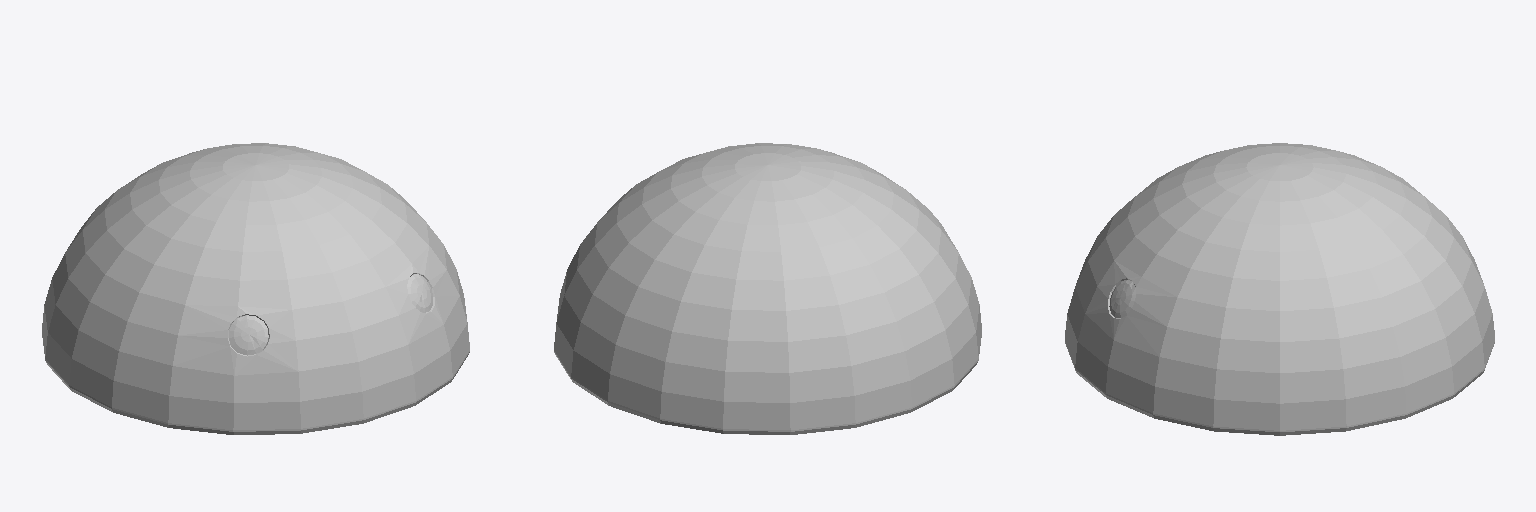
Rendered from head.obj.
The picture shows the model from 3 angles: view 1: azimuth 30°, elevation 25°; view 2: azimuth 150°, elevation 25°; view 3: azimuth 270°, elevation 25°; orthographic projection.
Parts seen in each view (by area): view 1: polySurface4 polySurface2 AndroidRobot:Mesh polySurface10, polySurface15 polySurface4 polySurface2 AndroidRobot:Mesh, polySurface4 polySurface2 AndroidRobot:Mesh polySurface12; view 2: polySurface4 polySurface2 AndroidRobot:Mesh polySurface10, polySurface4 polySurface2 AndroidRobot:Mesh polySurface11; view 3: polySurface4 polySurface2 AndroidRobot:Mesh polySurface10, polySurface4 polySurface2 AndroidRobot:Mesh polySurface11, polySurface4 polySurface2 AndroidRobot:Mesh polySurface12.
Part boxes in pixels (x1,y1,x2,y2): polySurface4 polySurface2 AndroidRobot:Mesh polySurface10: (42, 143, 469, 434); polySurface15 polySurface4 polySurface2 AndroidRobot:Mesh: (229, 315, 268, 355); polySurface4 polySurface2 AndroidRobot:Mesh polySurface12: (407, 274, 432, 312); polySurface4 polySurface2 AndroidRobot:Mesh polySurface10: (554, 143, 981, 429); polySurface4 polySurface2 AndroidRobot:Mesh polySurface11: (554, 351, 977, 434); polySurface4 polySurface2 AndroidRobot:Mesh polySurface10: (1065, 143, 1494, 431); polySurface4 polySurface2 AndroidRobot:Mesh polySurface11: (1153, 342, 1494, 435); polySurface4 polySurface2 AndroidRobot:Mesh polySurface12: (1109, 280, 1135, 317).
Bounding box in the file's own units: 2.16 × 1.01 × 2.16.